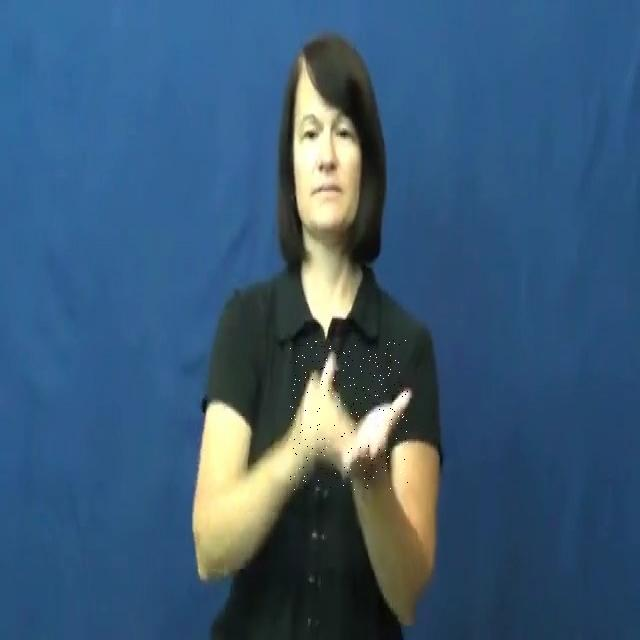refill: (290, 340, 408, 490)
